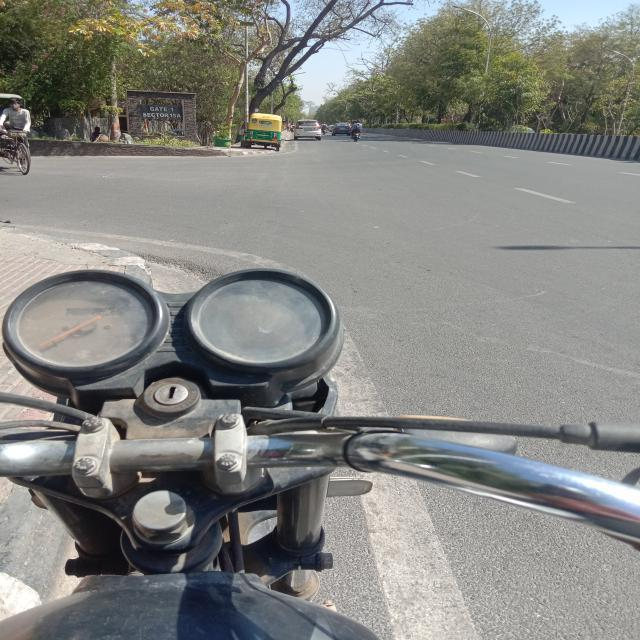auto_back: (239, 110, 288, 154)
car_back: (290, 115, 329, 147)
